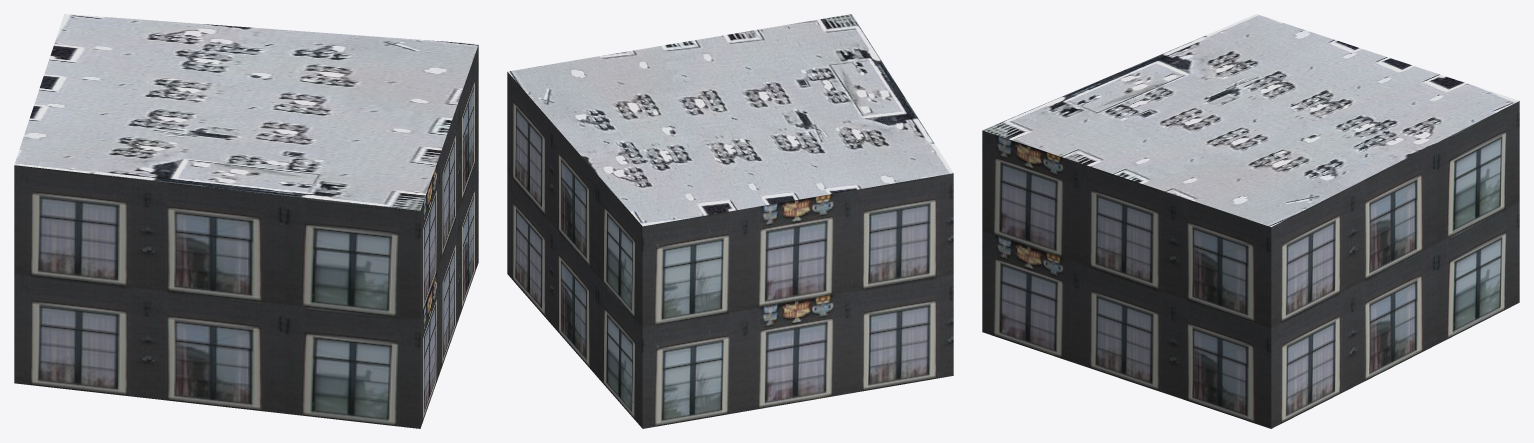
The model's file is ResTex__1289.fbx.
3 views of the same model, side by side, from view 1: azimuth 30°, elevation 25°; view 2: azimuth 150°, elevation 25°; view 3: azimuth 270°, elevation 25° (orthographic). The views are drawn at different scales.
Parts seen in each view (by area): view 1: CityEngineMaterial_22_m, CityEngineMaterial_4_m; view 2: CityEngineMaterial_22_m, CityEngineMaterial_4_m; view 3: CityEngineMaterial_22_m, CityEngineMaterial_4_m.
Part boxes in pixels (bbox=[...]): CityEngineMaterial_22_m: bbox=[14, 45, 478, 428]; CityEngineMaterial_4_m: bbox=[14, 14, 478, 210]; CityEngineMaterial_22_m: bbox=[507, 72, 953, 428]; CityEngineMaterial_4_m: bbox=[508, 14, 953, 226]; CityEngineMaterial_22_m: bbox=[982, 101, 1519, 428]; CityEngineMaterial_4_m: bbox=[982, 14, 1519, 226].
Bounding box in the file's own units: 13.6 × 6 × 14.49.
Materials: 2 (2 with a texture image).
